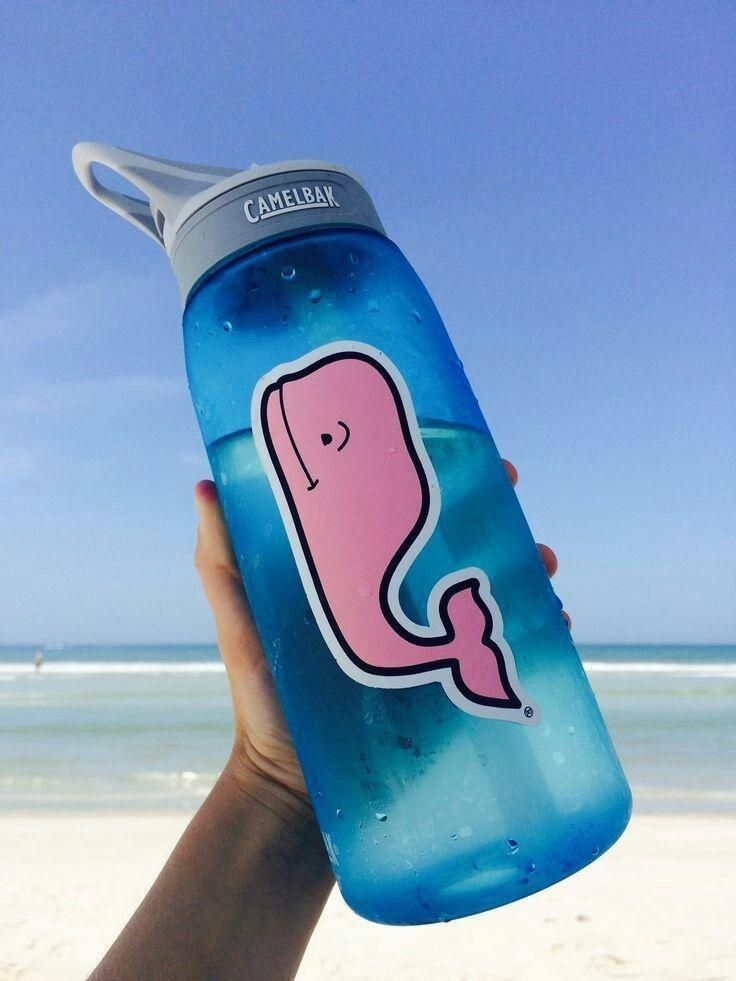gym bottle: (73, 145, 630, 925)
